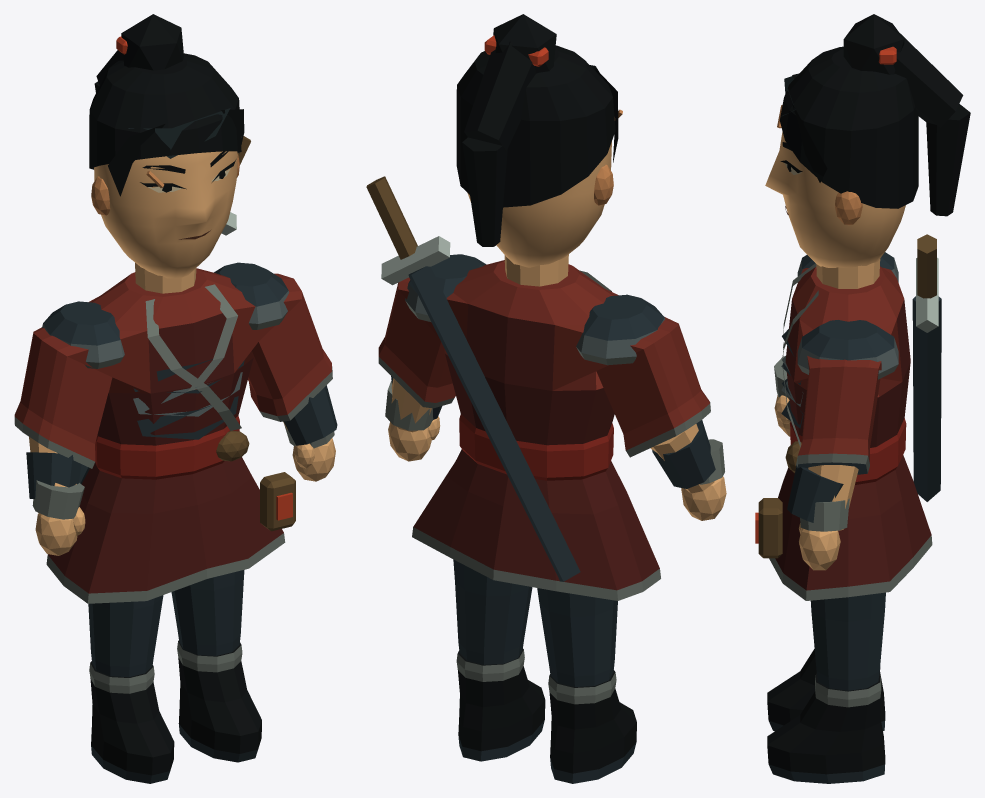
File: LuYing.fbx
The picture shows the model from 3 angles, left to right: view 1: azimuth 30°, elevation 25°; view 2: azimuth 150°, elevation 25°; view 3: azimuth 270°, elevation 25°; orthographic projection. The views are drawn at different scales.
Parts seen in each view (by area): view 1: LuYing_Sample; view 2: LuYing_Sample; view 3: LuYing_Sample.
Part boxes in pixels (<box>): LuYing_Sample: <box>14,14,337,783</box>; LuYing_Sample: <box>366,14,726,783</box>; LuYing_Sample: <box>755,14,970,783</box>.
Bounding box in the file's own units: 107 × 238 × 63.45.
Materials: 1 (1 with a texture image).
